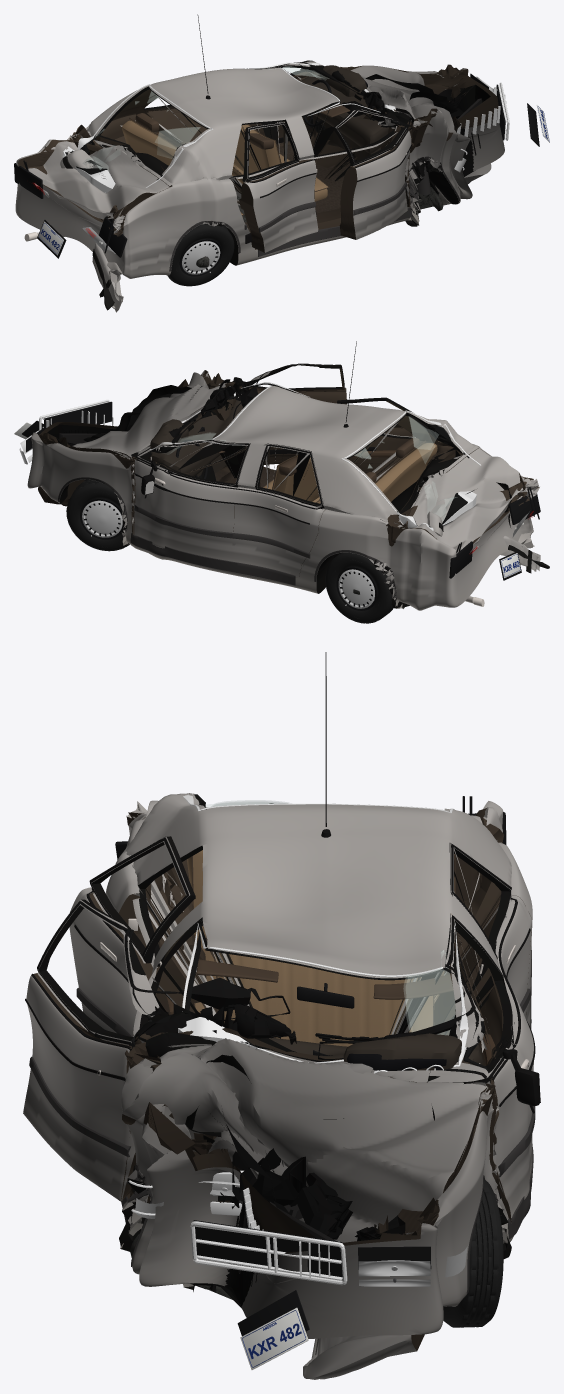
Rendered from sedan87_front_corner_R_d3.glb.
3 renders of one model, top to bottom at view 1: azimuth 30°, elevation 25°; view 2: azimuth 150°, elevation 25°; view 3: azimuth 270°, elevation 25°, orthographic. The views are drawn at different scales.
Parts seen in each view (by area): view 1: Body, Interior, Door_FR, Door_RR, Trunk, Ends, Glass, Hood, Wheel_RR_mesh, Trim, Bumper_R, Trim_FR (+4 smaller); view 2: Body, Door_FL, Interior, Trunk, Door_RL, Hood, Wheel_RL_mesh, Glass, Ends, Trim, Wheel_FL_mesh, Trim_FL (+7 smaller); view 3: Body, Hood, Door_FR, Interior, Ends, Door_FL, Door_RR, Glass, Engine, Trim_FR, Trim, Wheel_FL_mesh (+4 smaller).
Part boxes in pixels (box(x1,y1,x2,y2)): Body: box(15, 63, 504, 283); Interior: box(122, 65, 388, 217); Door_FR: box(333, 107, 411, 239); Door_RR: box(239, 122, 318, 252); Trunk: box(28, 136, 169, 219); Ends: box(14, 73, 549, 258); Glass: box(62, 62, 395, 192); Hood: box(345, 65, 491, 184); Wheel_RR_mesh: box(167, 224, 234, 286); Trim: box(169, 14, 460, 271); Bumper_R: box(60, 149, 123, 312); Trim_FR: box(336, 101, 412, 215); Body: box(27, 370, 539, 610); Door_FL: box(131, 440, 250, 561); Interior: box(148, 400, 437, 503); Trunk: box(402, 448, 526, 553); Door_RL: box(230, 443, 325, 577); Hood: box(38, 372, 230, 506); Wheel_RL_mesh: box(325, 552, 393, 623); Glass: box(150, 382, 480, 530); Ends: box(14, 399, 540, 580); Trim: box(58, 341, 396, 601); Wheel_FL_mesh: box(66, 479, 129, 551); Trim_FL: box(134, 419, 249, 538); Body: box(106, 793, 532, 1338); Hood: box(122, 1032, 491, 1379); Door_FR: box(23, 899, 193, 1201); Interior: box(187, 850, 482, 1073); Ends: box(115, 796, 506, 1369); Door_FL: box(428, 914, 533, 1217); Door_RR: box(69, 836, 195, 1035); Glass: box(178, 793, 468, 1066); Engine: box(232, 1148, 352, 1286); Trim_FR: box(25, 901, 290, 1157); Trim: box(121, 652, 533, 1293); Wheel_FL_mesh: box(443, 1179, 503, 1327).
Bounding box in the file's own units: 4.76 × 2.17 × 2.16.
32 materials, 5 textured.
